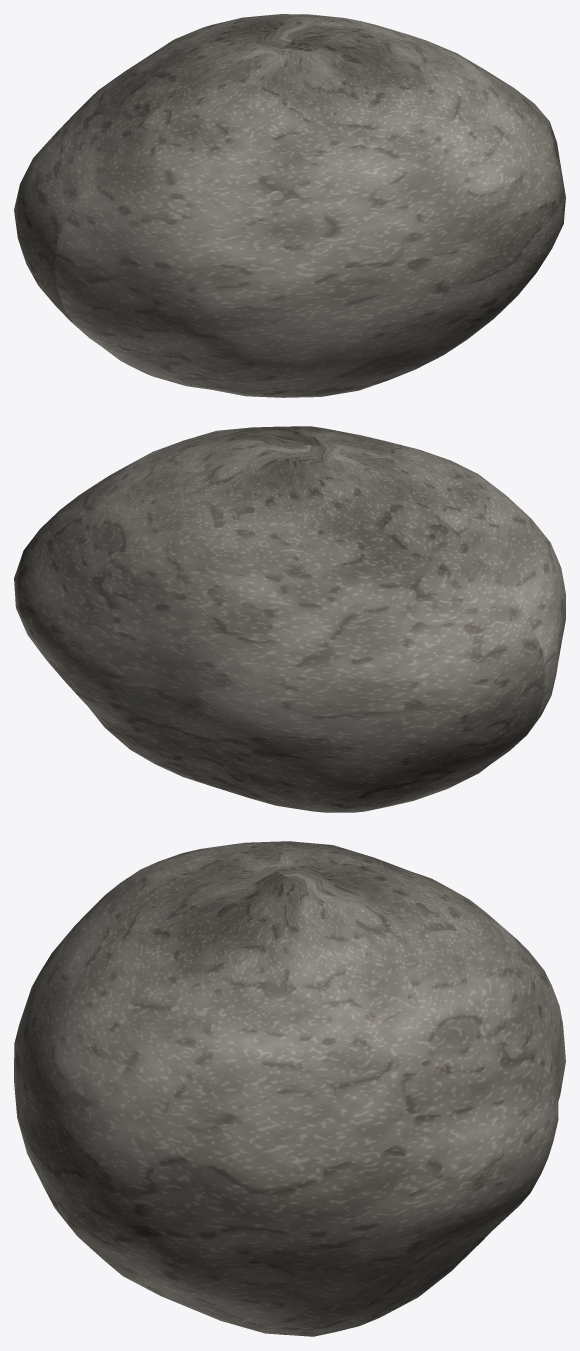
The model's file is PZ_R01_Rounded_Pebble_Granite.glb.
3 views of the same model, one above another, from view 1: azimuth 30°, elevation 25°; view 2: azimuth 150°, elevation 25°; view 3: azimuth 270°, elevation 25° (orthographic). The views are drawn at different scales.
Visible parts, largest first — view 1: RENDER_R01_Rounded_Pebble_Granite; view 2: RENDER_R01_Rounded_Pebble_Granite; view 3: RENDER_R01_Rounded_Pebble_Granite.
Part boxes in pixels (x1,y1,x2,y2): RENDER_R01_Rounded_Pebble_Granite: (14,14,565,397); RENDER_R01_Rounded_Pebble_Granite: (14,426,565,812); RENDER_R01_Rounded_Pebble_Granite: (14,841,565,1336).
Bounding box in the file's own units: 0.3 × 0.18 × 0.24.
Materials: 1 (1 with a texture image).
